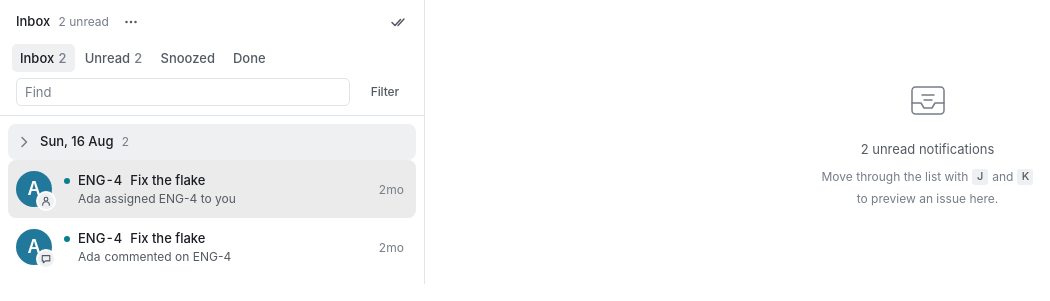
Test: Inbox leftovers › filters the list from the find box
The image size is (1050, 301).
Type "commented" into the field named "Find in inbox".
click(183, 92); type("commented")  # box [25,78,341,104]
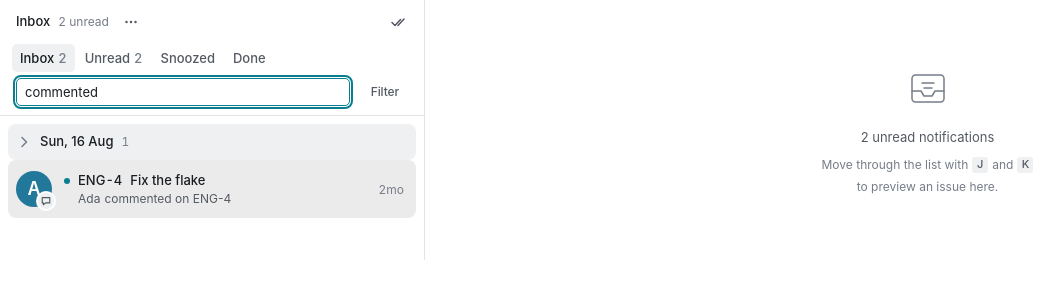
Expected: the text "commented on ENG-4" is shown, [104,191,231,206]
Expected: the option "assigned ENG-4 to you" is gone
